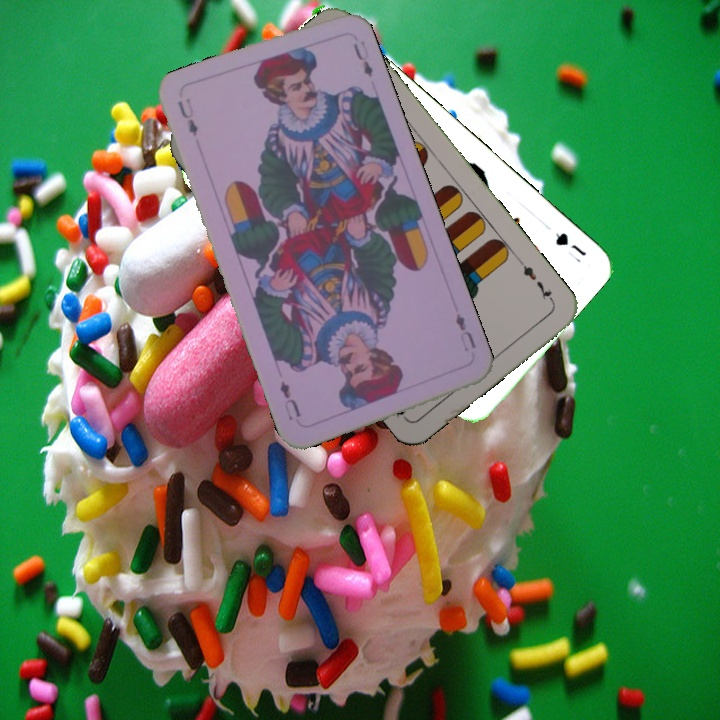E7: (516, 256, 557, 305)
EU: (451, 309, 479, 354), (173, 94, 201, 139)
GU: (551, 228, 589, 259)
